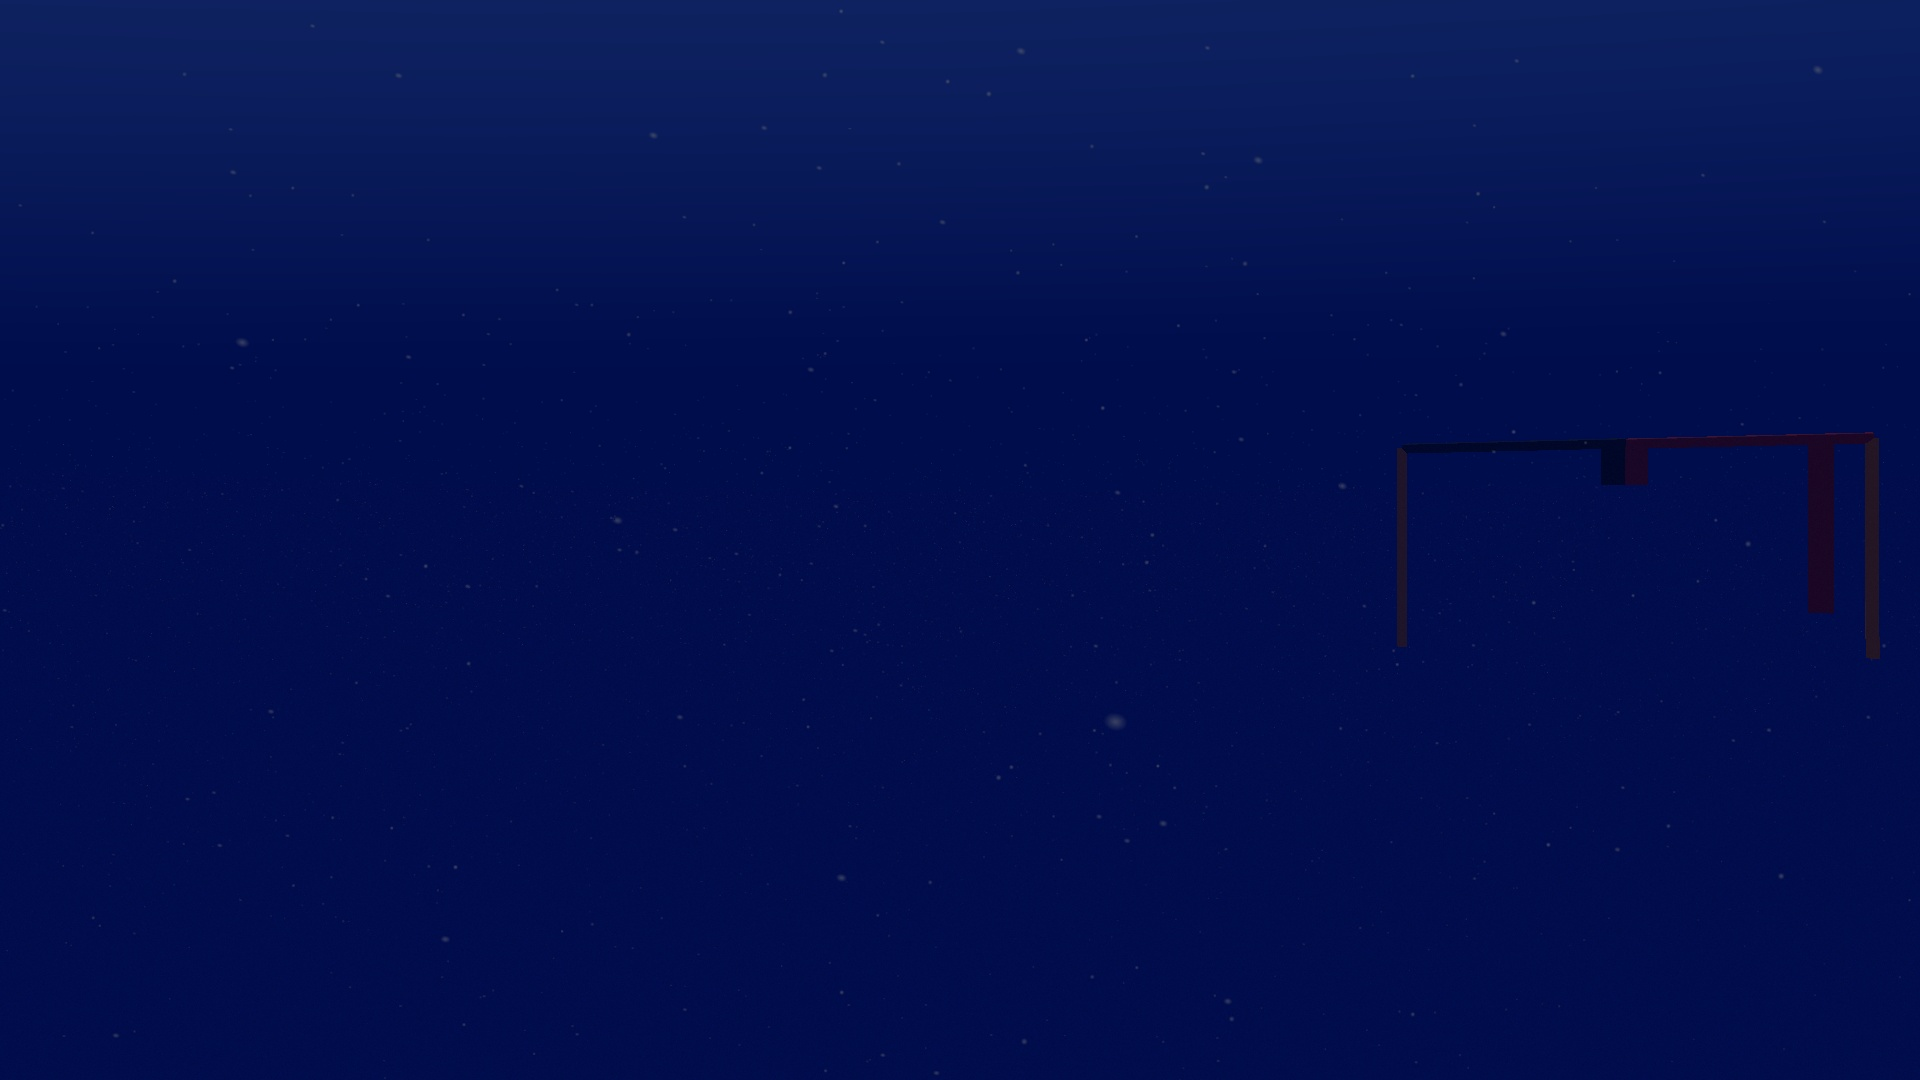Gate: (1389, 423, 1890, 673)
